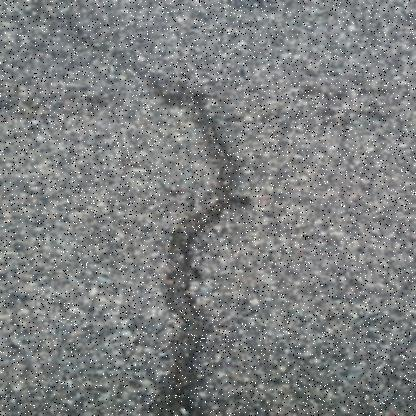Cracks: (42, 0, 258, 415)
